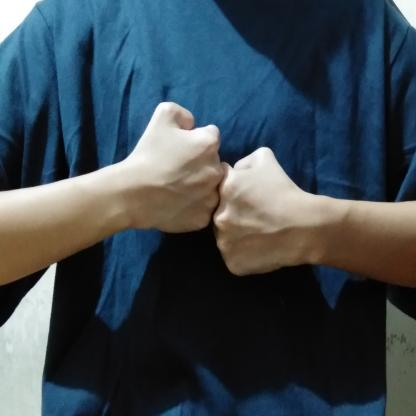brother: (106, 92, 322, 284)
